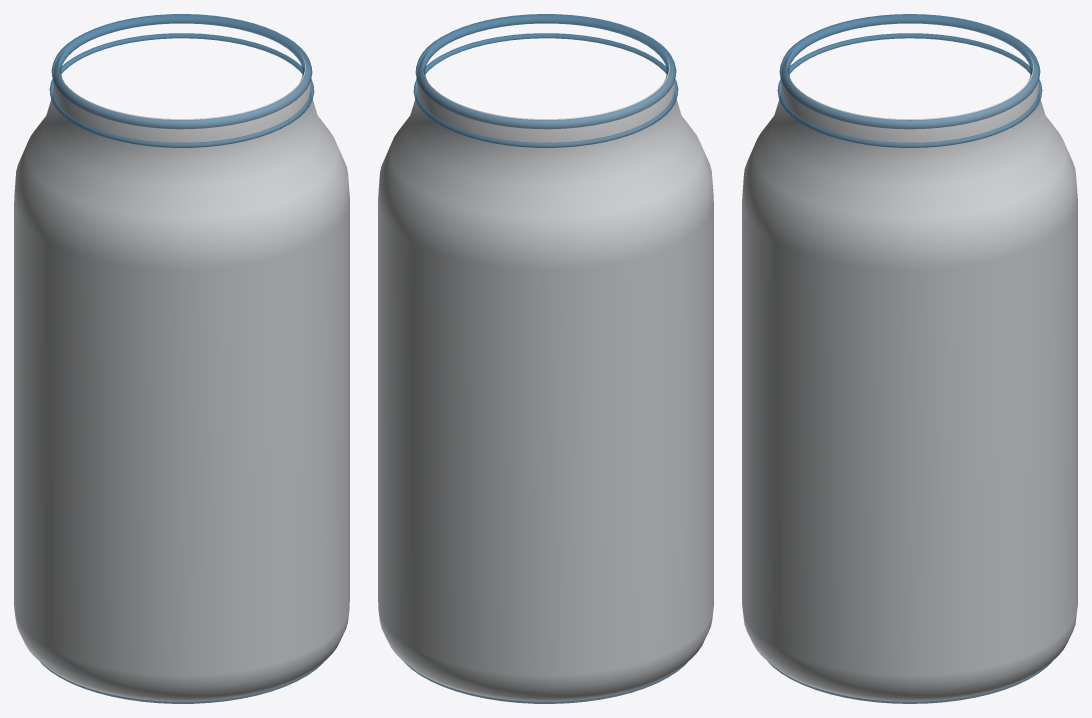
The model's file is gas-jar.glb.
3 views of the same model, side by side, from view 1: azimuth 30°, elevation 25°; view 2: azimuth 150°, elevation 25°; view 3: azimuth 270°, elevation 25° (orthographic).
Visible parts, largest first — view 1: gas-jar part 1, gas-jar part 2, gas-jar part 3, gas-jar part 4; view 2: gas-jar part 1, gas-jar part 2, gas-jar part 3, gas-jar part 4; view 3: gas-jar part 1, gas-jar part 2, gas-jar part 3, gas-jar part 4.
Boxes of the visible parts, x1,y1,x2,y2 form: gas-jar part 1: (14,50,349,702); gas-jar part 2: (51,14,312,129); gas-jar part 3: (49,33,314,147); gas-jar part 4: (40,662,323,703); gas-jar part 1: (378,50,713,702); gas-jar part 2: (415,14,676,129); gas-jar part 3: (413,33,678,147); gas-jar part 4: (404,662,687,703); gas-jar part 1: (742,51,1077,702); gas-jar part 2: (779,14,1040,129); gas-jar part 3: (777,33,1042,147); gas-jar part 4: (768,662,1051,703).
Size of the model in its own units: 0.154 by 0.292 by 0.154.
